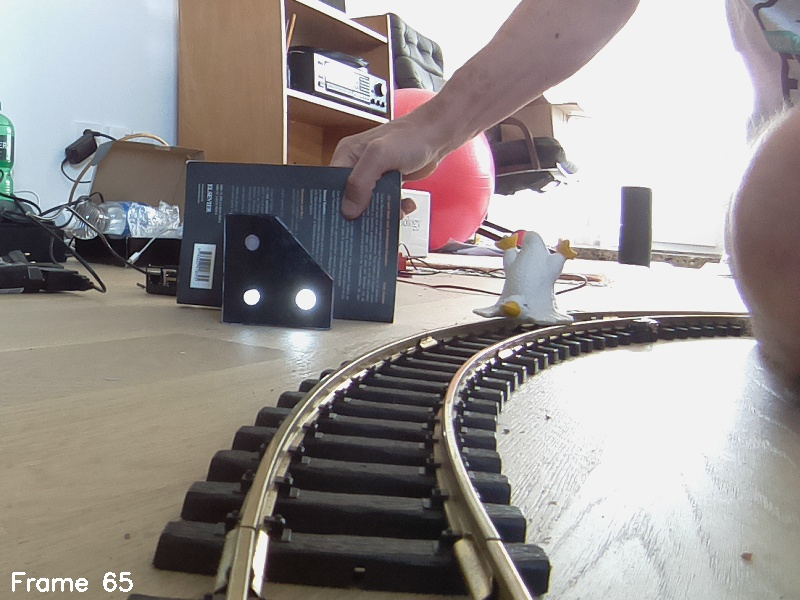Halt: (222, 214, 331, 329)
